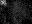person: (1, 1, 8, 8)
